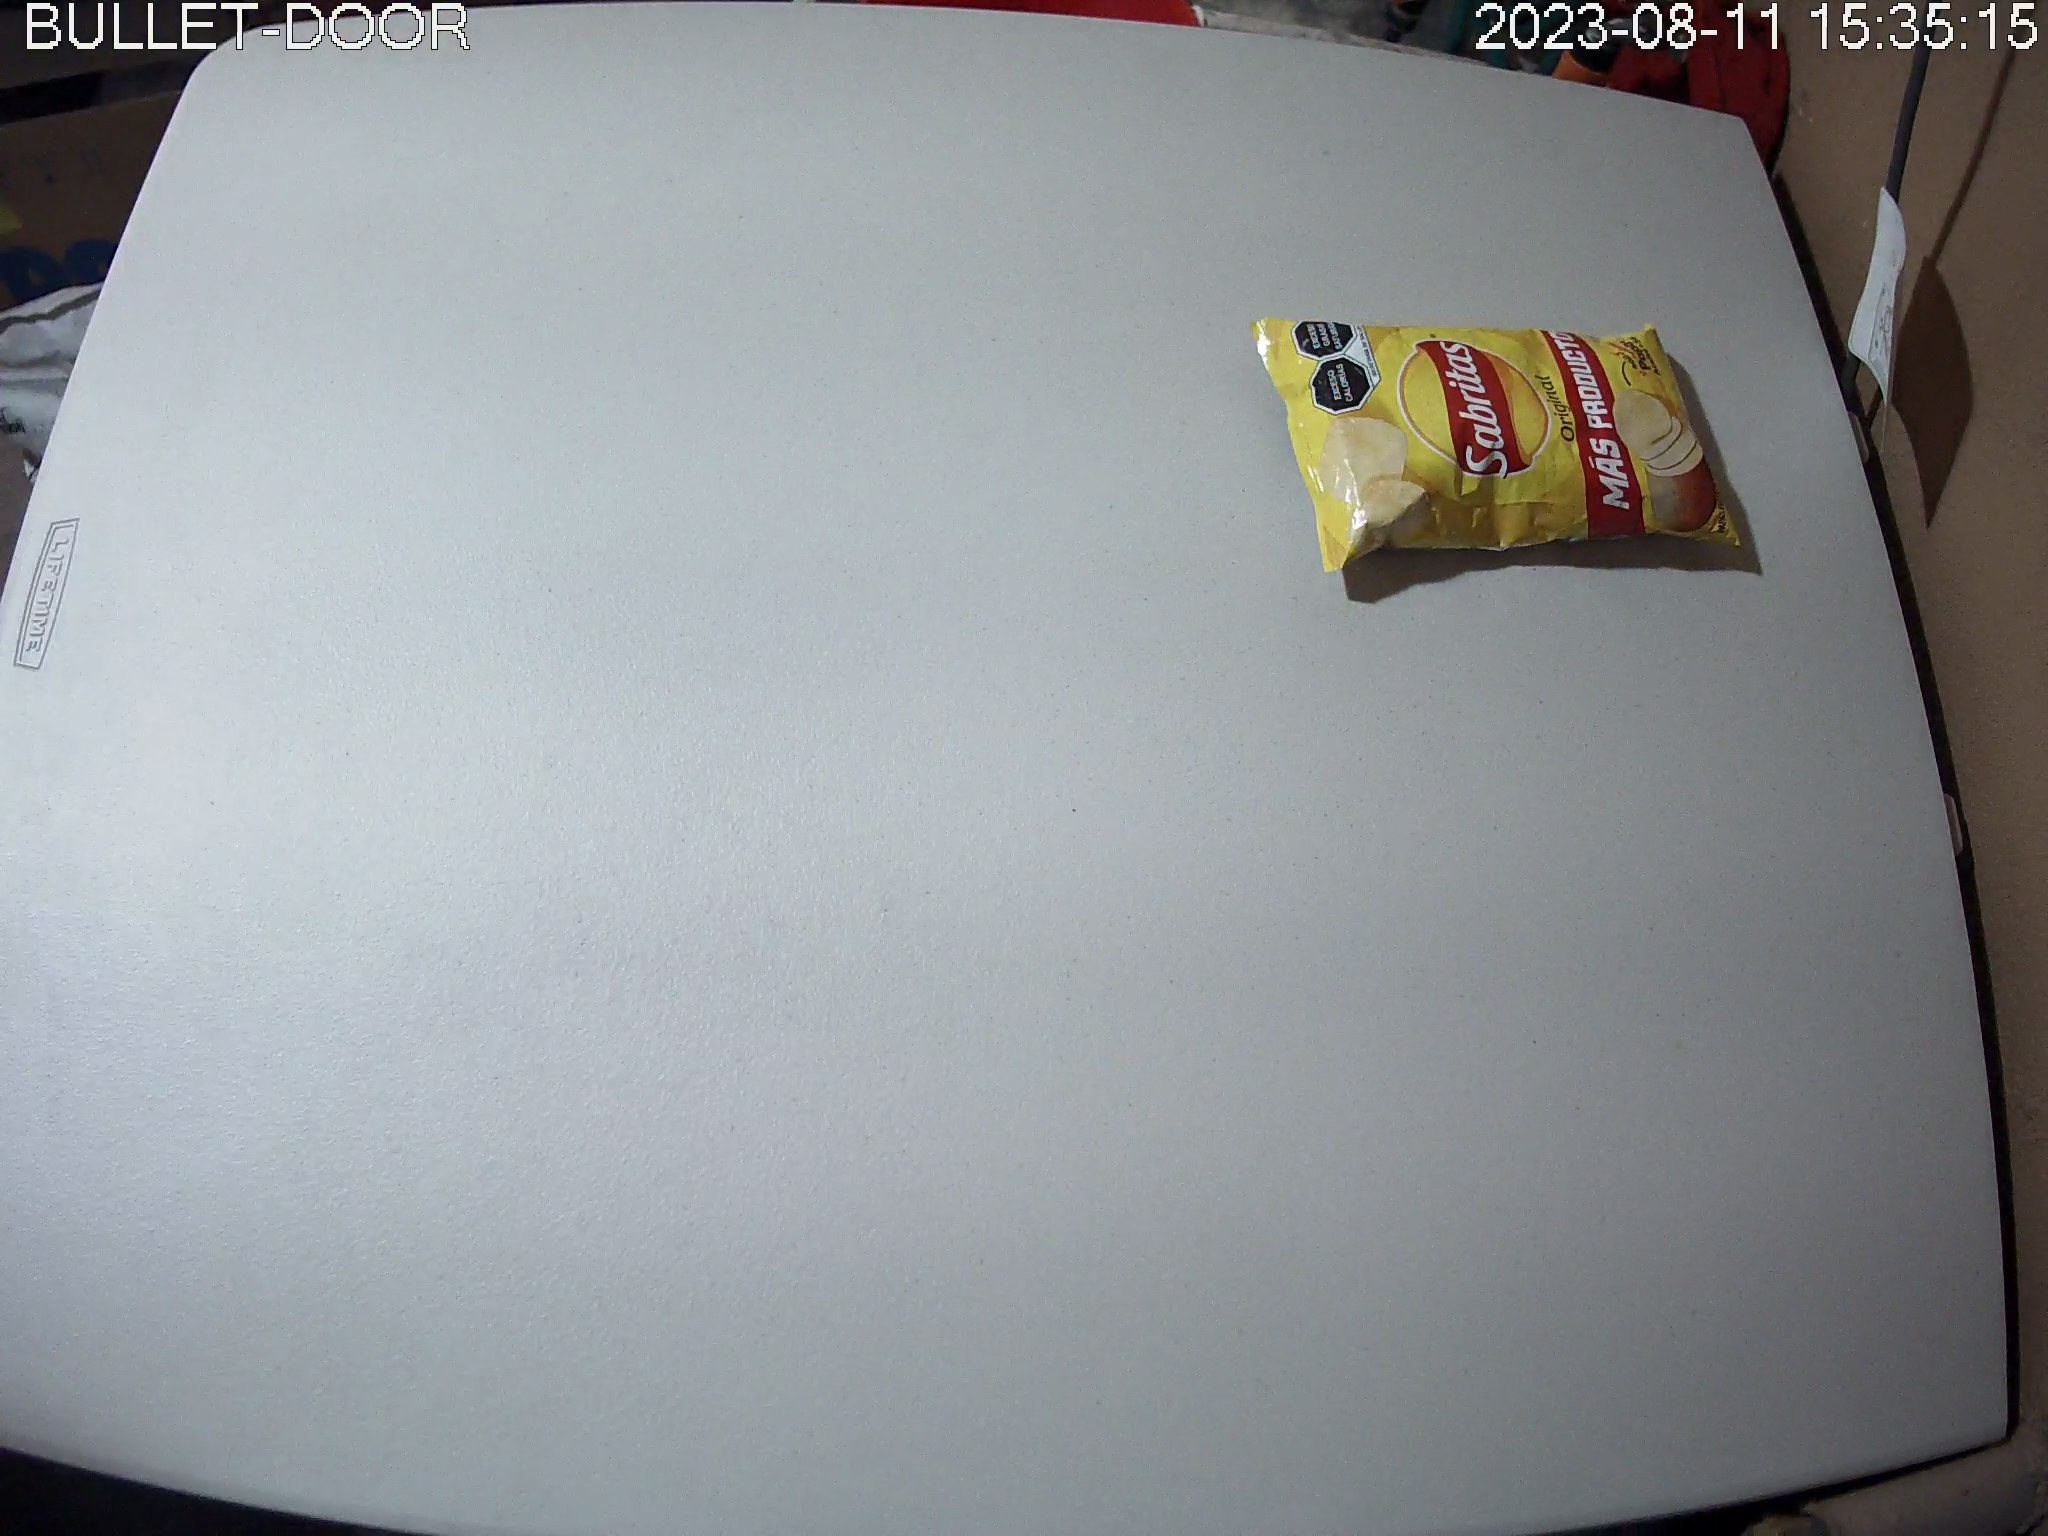Sabritas_45_F: (1247, 316, 1751, 578)
